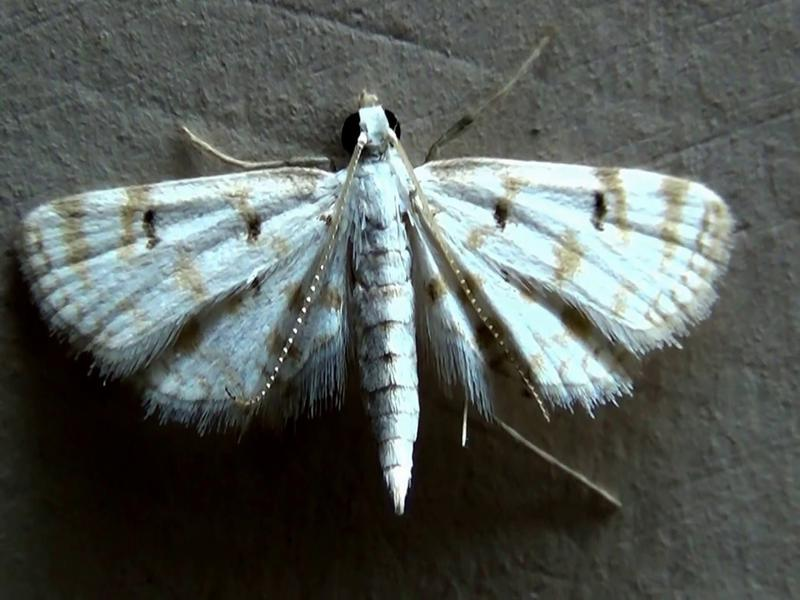Rice_case_worm: (10, 146, 754, 450)
